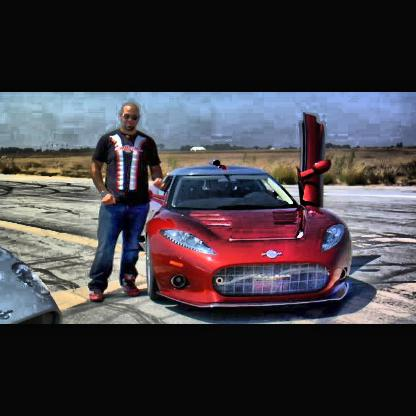Spyker C8 Coupe 2009: (147, 114, 353, 321)
